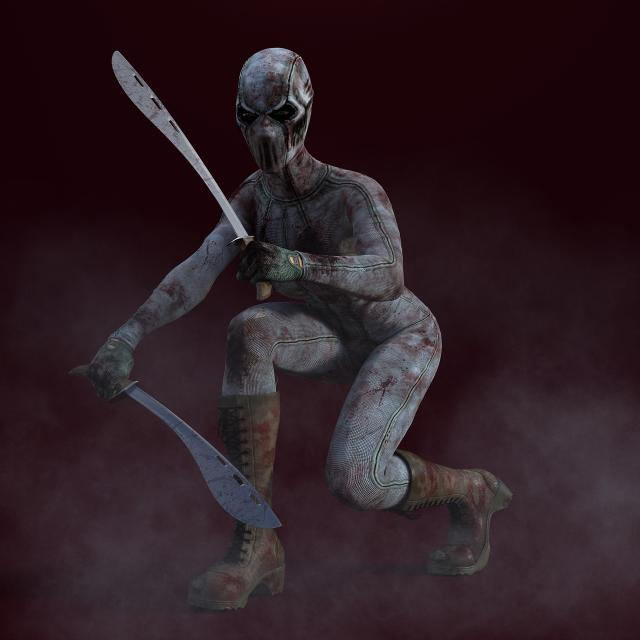Knife: (111, 51, 254, 244), (114, 378, 281, 528), (258, 281, 271, 299)
